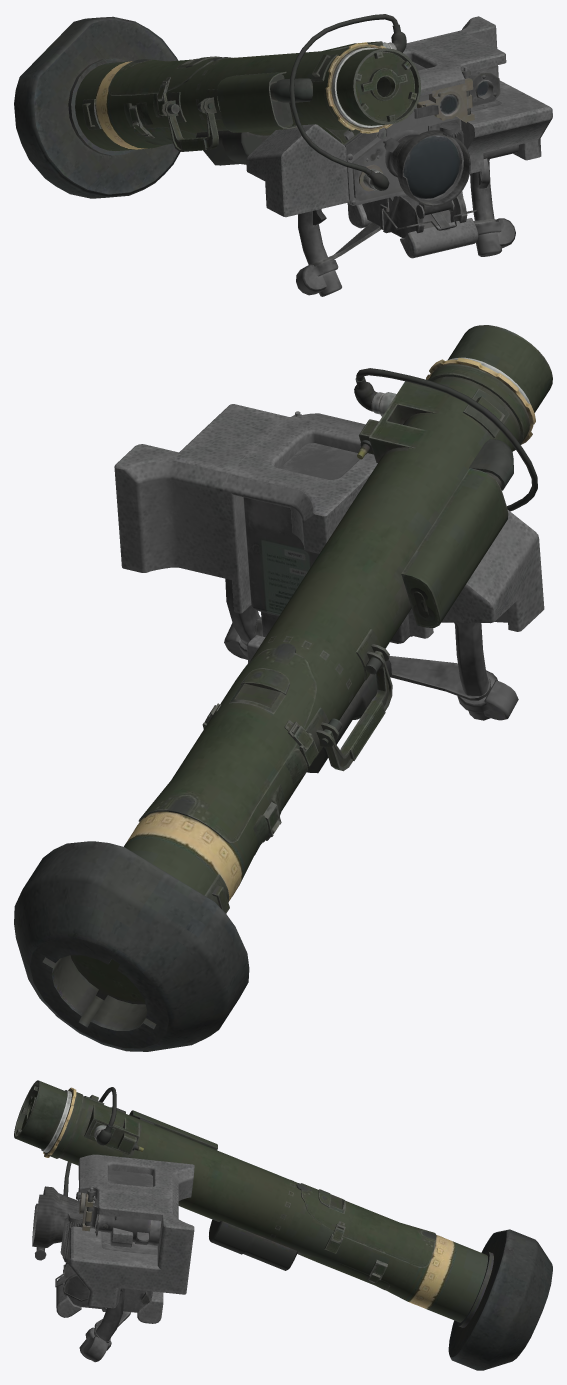
3 views of the same model, one above another, from view 1: azimuth 30°, elevation 25°; view 2: azimuth 150°, elevation 25°; view 3: azimuth 270°, elevation 25° (orthographic). The views are drawn at different scales.
Visible parts, largest first — view 1: Turret_3, Turret_4, Turret_2; view 2: Turret_4, Turret_3, Turret_2; view 3: Turret_4, Turret_3, Turret_2.
Boxes of the visible parts, x1,y1,x2,y2 form: Turret_3: (246, 16, 552, 296); Turret_4: (68, 14, 420, 190); Turret_2: (14, 16, 180, 198); Turret_4: (124, 325, 552, 913); Turret_3: (114, 404, 544, 720); Turret_2: (14, 841, 249, 1051); Turret_4: (14, 1080, 493, 1327); Turret_3: (32, 1154, 194, 1362); Turret_2: (448, 1229, 552, 1370).
Size of the model in its own units: 24.57 by 29.2 by 50.81.
3 materials, 3 textured.
